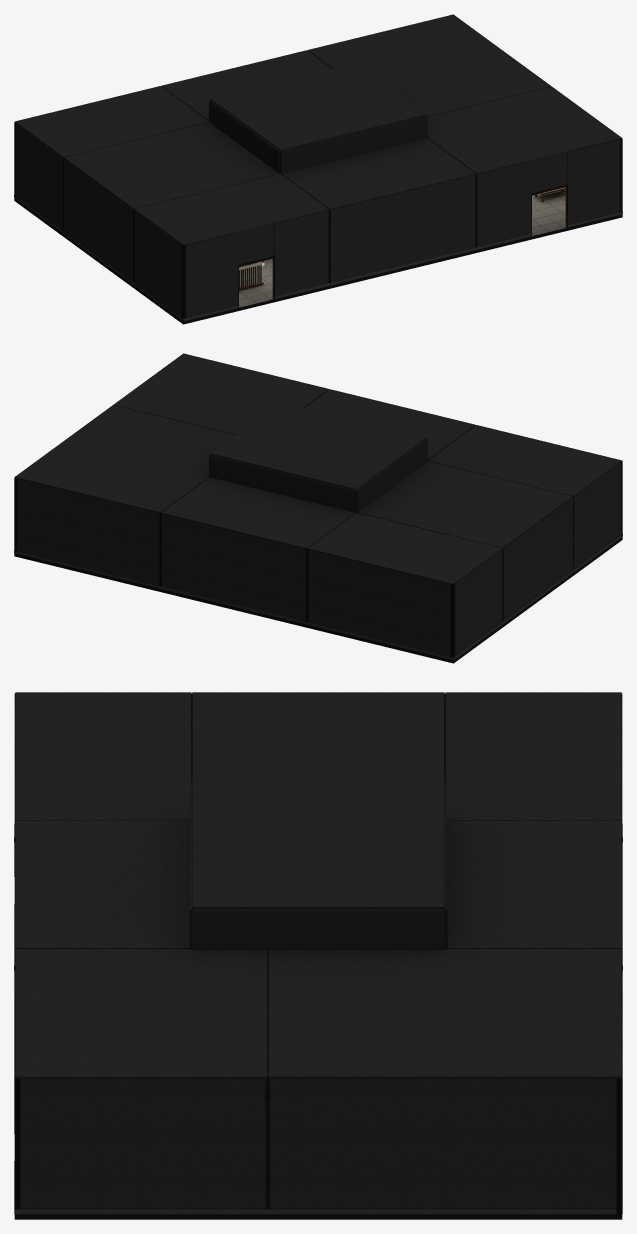
The model's file is Baoguosi_Gallery_V02_Baked.fbx.
3 renders of one model, top to bottom at view 1: azimuth 30°, elevation 25°; view 2: azimuth 150°, elevation 25°; view 3: azimuth 270°, elevation 25°, orthographic. The views are drawn at different scales.
Visible parts, largest first — view 1: Gallery_Baked_Zone08, Gallery_Baked_Zone02, Gallery_Baked_Zone07, Gallery_Baked_Zone05, Gallery_Baked_Zone01, Gallery_Baked_Zone06, Gallery_Baked_Zone03, Gallery_Baked_Zone04; view 2: Gallery_Baked_Zone04, Gallery_Baked_Zone02, Gallery_Baked_Zone06, Gallery_Baked_Zone05, Gallery_Baked_Zone07, Gallery_Baked_Zone03, Gallery_Baked_Zone01, Gallery_Baked_Zone08; view 3: Gallery_Baked_Zone06, Gallery_Baked_Zone05, Gallery_Baked_Zone07, Gallery_Baked_Zone04, Gallery_Baked_Zone08, Gallery_Baked_Zone01, Gallery_Baked_Zone03, Gallery_Baked_Zone02.
Boxes of the visible parts, bbox=[...] form: Gallery_Baked_Zone08: bbox=[274, 138, 531, 298]; Gallery_Baked_Zone02: bbox=[14, 100, 280, 320]; Gallery_Baked_Zone07: bbox=[427, 86, 622, 250]; Gallery_Baked_Zone05: bbox=[14, 63, 622, 324]; Gallery_Baked_Zone01: bbox=[133, 173, 331, 321]; Gallery_Baked_Zone06: bbox=[307, 14, 622, 211]; Gallery_Baked_Zone03: bbox=[14, 86, 208, 234]; Gallery_Baked_Zone04: bbox=[14, 50, 332, 181]; Gallery_Baked_Zone04: bbox=[17, 455, 455, 659]; Gallery_Baked_Zone02: bbox=[356, 439, 622, 660]; Gallery_Baked_Zone06: bbox=[14, 405, 235, 589]; Gallery_Baked_Zone05: bbox=[14, 402, 622, 663]; Gallery_Baked_Zone07: bbox=[113, 353, 329, 434]; Gallery_Baked_Zone03: bbox=[305, 512, 503, 660]; Gallery_Baked_Zone01: bbox=[428, 425, 622, 573]; Gallery_Baked_Zone08: bbox=[304, 389, 475, 459]; Gallery_Baked_Zone06: bbox=[14, 949, 622, 1215]; Gallery_Baked_Zone05: bbox=[14, 779, 622, 1219]; Gallery_Baked_Zone07: bbox=[14, 949, 267, 1215]; Gallery_Baked_Zone04: bbox=[443, 693, 622, 1209]; Gallery_Baked_Zone08: bbox=[14, 774, 189, 1133]; Gallery_Baked_Zone01: bbox=[14, 692, 192, 876]; Gallery_Baked_Zone03: bbox=[445, 692, 622, 842]; Gallery_Baked_Zone02: bbox=[14, 692, 445, 825].
Bounding box in the file's own units: 36.05 × 8.02 × 24.05.
Materials: 10 (8 with a texture image).
